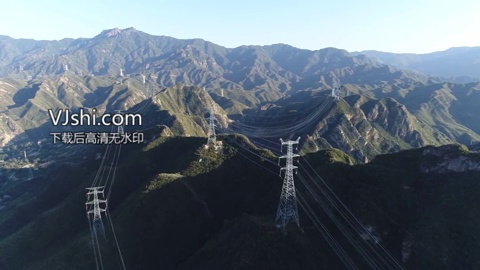tower_body: (273, 134, 305, 231), (81, 181, 114, 244)
tower_foot: (274, 208, 300, 228), (91, 220, 106, 241)
tower_head: (277, 137, 304, 148), (84, 185, 109, 196)
